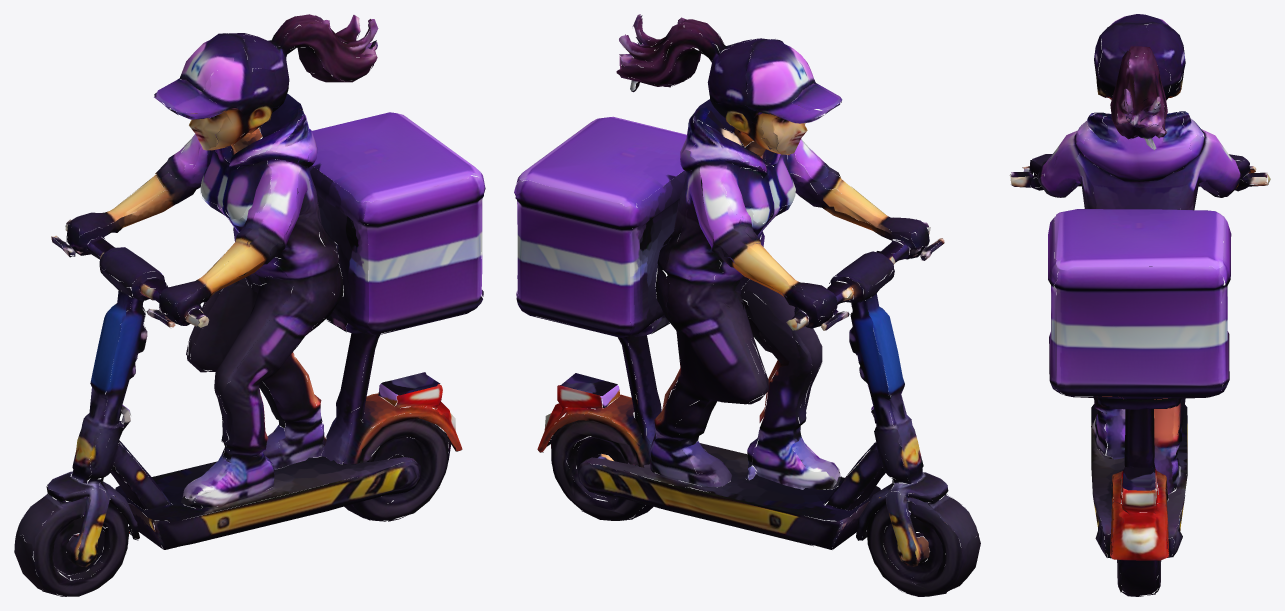
Rendered from h3-courier-kickscooter.glb.
3 renders of one model, left to right at view 1: azimuth 30°, elevation 25°; view 2: azimuth 150°, elevation 25°; view 3: azimuth 270°, elevation 25°, orthographic. The views are drawn at different scales.
Visible parts, largest first — view 1: tmpr6nt9wsy.ply; view 2: tmpr6nt9wsy.ply; view 3: tmpr6nt9wsy.ply.
Part boxes in pixels (x1,y1,x2,y2): tmpr6nt9wsy.ply: (14, 14, 485, 596); tmpr6nt9wsy.ply: (514, 14, 980, 596); tmpr6nt9wsy.ply: (1009, 14, 1270, 596).
Size of the model in its own units: 1.73 by 1.99 by 0.9413.
Materials: 1 (1 with a texture image).
